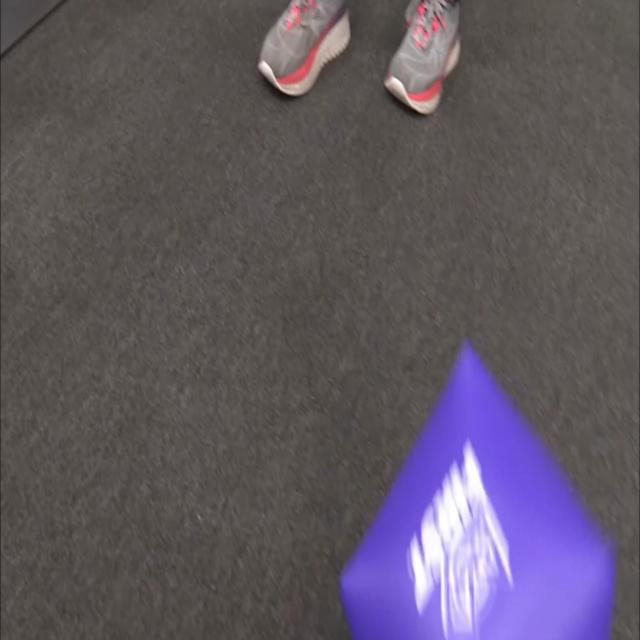frc_cube: (334, 341, 617, 640)
